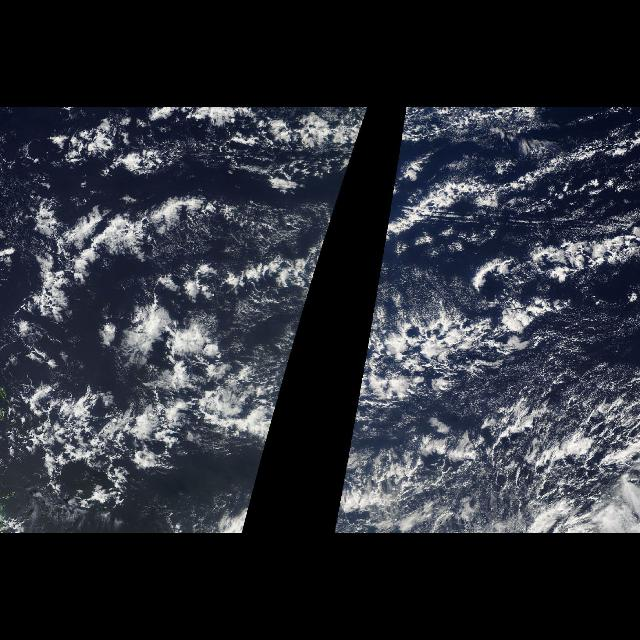Flower: (29, 284, 274, 466)
Gravel: (377, 408, 636, 524)
Sugar: (392, 280, 636, 392), (161, 188, 343, 268), (381, 188, 492, 268)
